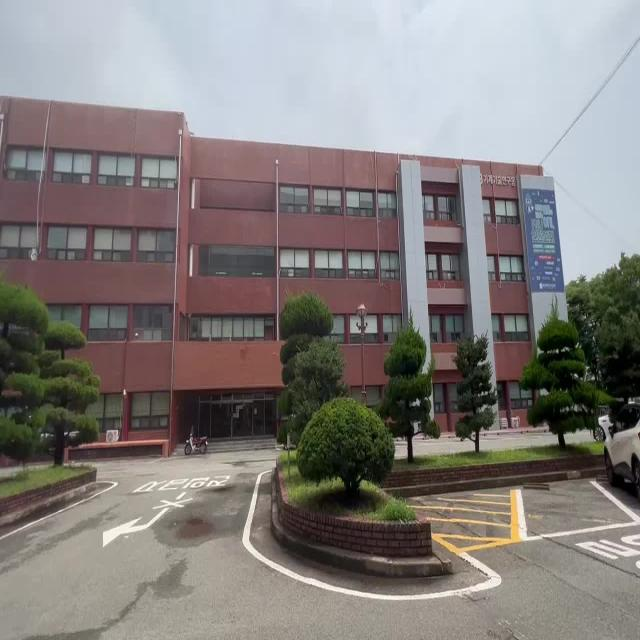building: (26, 96, 522, 319)
